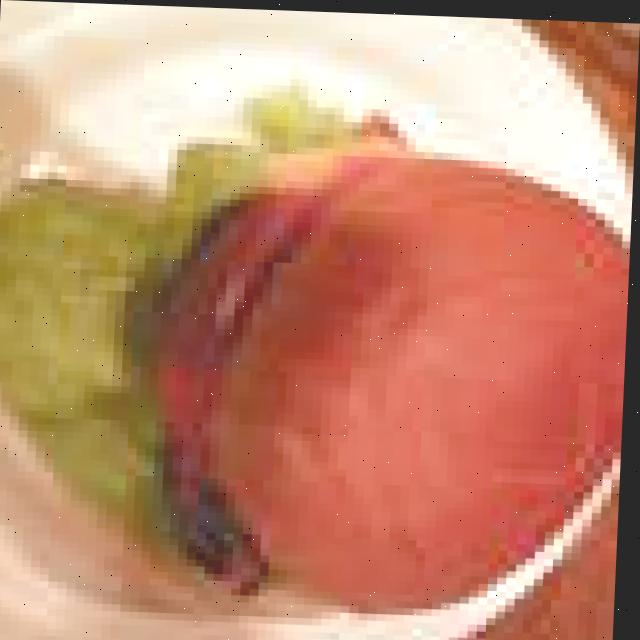汉堡快餐: (0, 68, 638, 640)
